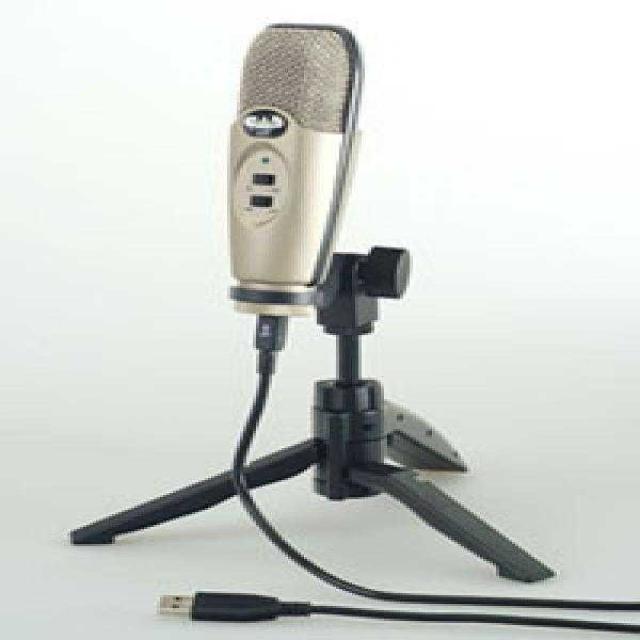microphone: (227, 24, 365, 316)
